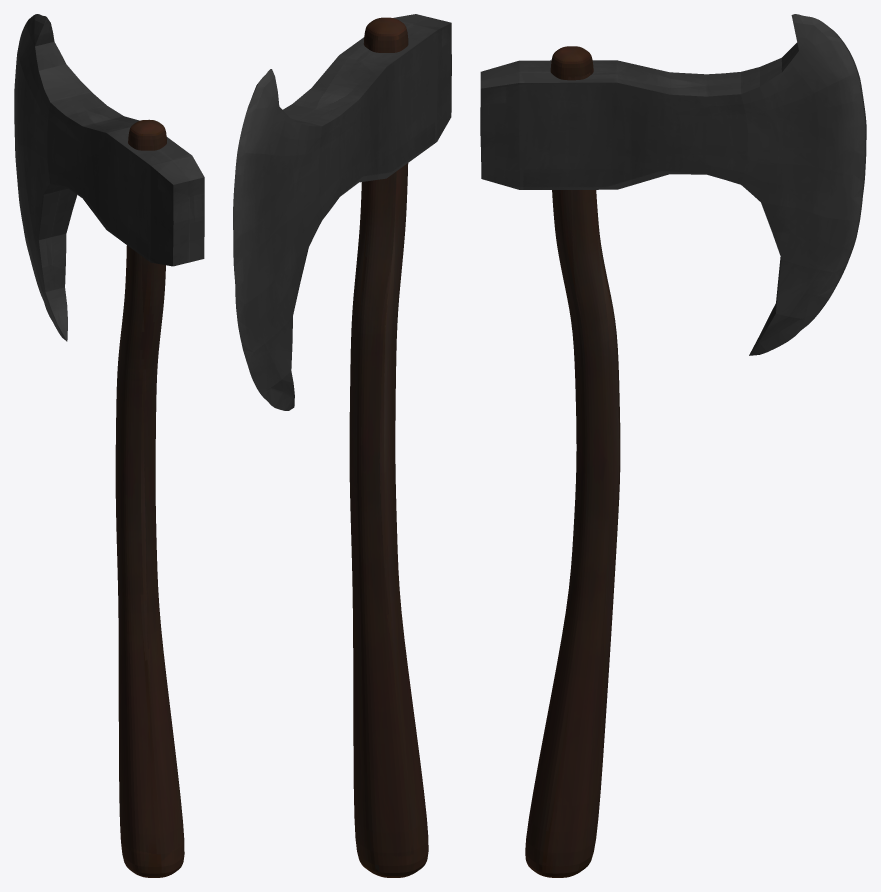
Rendered from hunting_axe.obj.
The picture shows the model from 3 angles, left to right: view 1: azimuth 30°, elevation 25°; view 2: azimuth 150°, elevation 25°; view 3: azimuth 270°, elevation 25°; orthographic projection. The views are drawn at different scales.
Parts seen in each view (by area): view 1: Cylinder_Cylinder.001, Circle; view 2: Circle, Cylinder_Cylinder.001; view 3: Circle, Cylinder_Cylinder.001.
Part boxes in pixels (left/top/right/bottom): Cylinder_Cylinder.001: left=115, top=119, right=184, bottom=877; Circle: left=14, top=14, right=204, bottom=341; Circle: left=233, top=14, right=451, bottom=410; Cylinder_Cylinder.001: left=349, top=17, right=428, bottom=877; Circle: left=480, top=14, right=866, bottom=355; Cylinder_Cylinder.001: left=525, top=46, right=620, bottom=877.
Size of the model in its own units: 0.2262 by 3.22 by 1.31.
